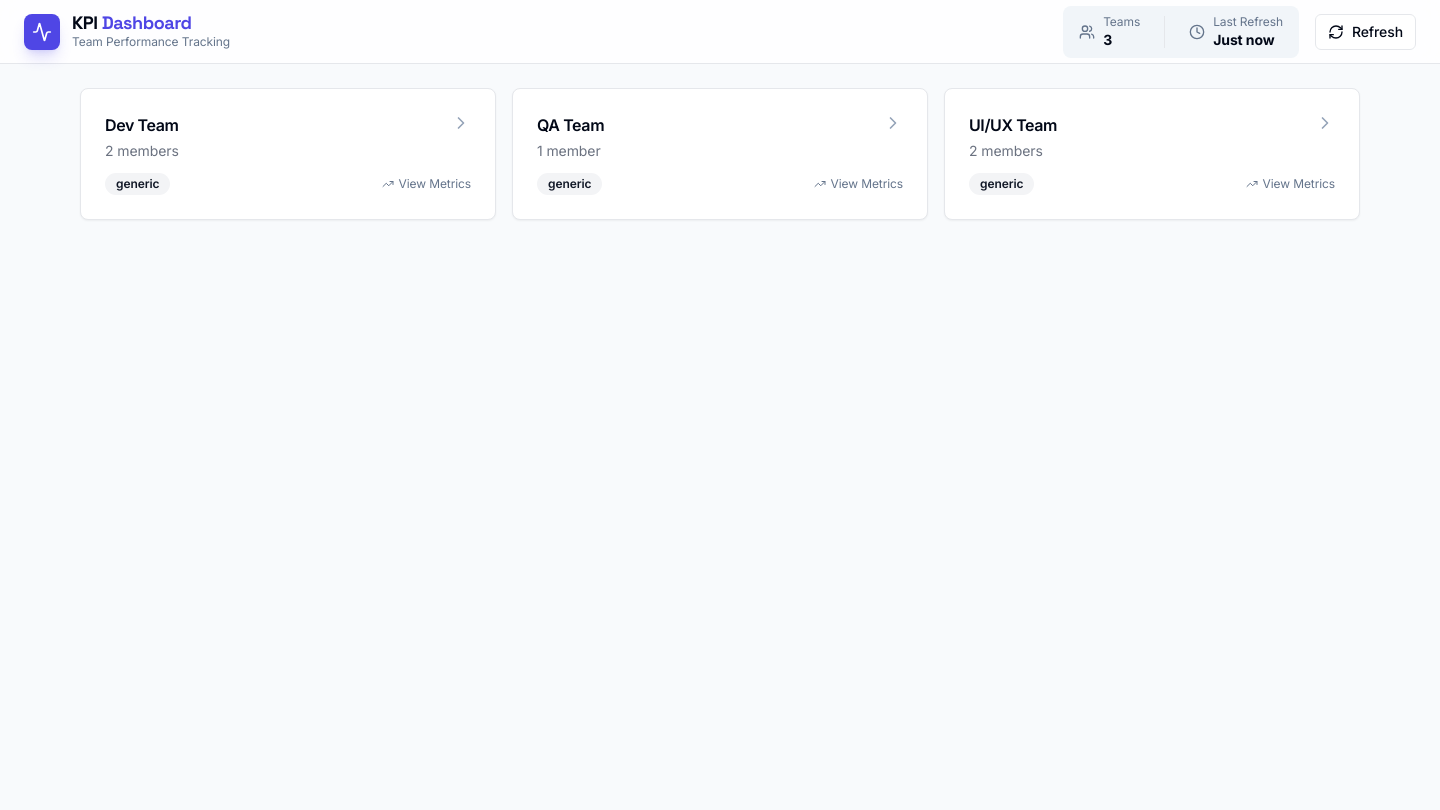
Test: KPIDashboardPage › Team Selection › closes modal when close button is clicked
Expected: the text "Dev Team" is shown, [105,115,178,135]
Click the text "Dev Team" at (288, 154), box [80,88,496,220]
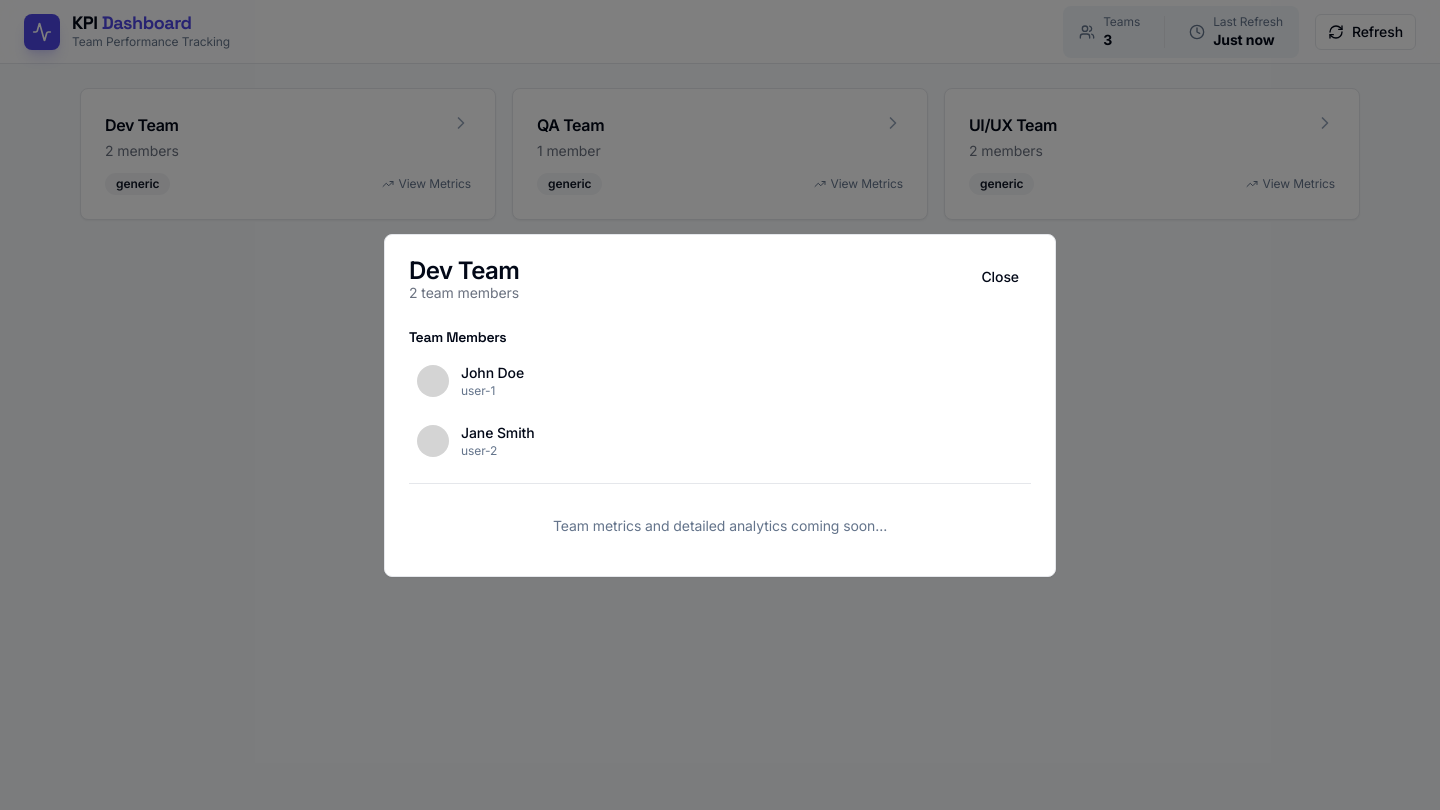
Result: the text "John Doe" is shown at [461,362,524,382]
Click the button "Close" at (1000, 276), box [970,258,1031,294]
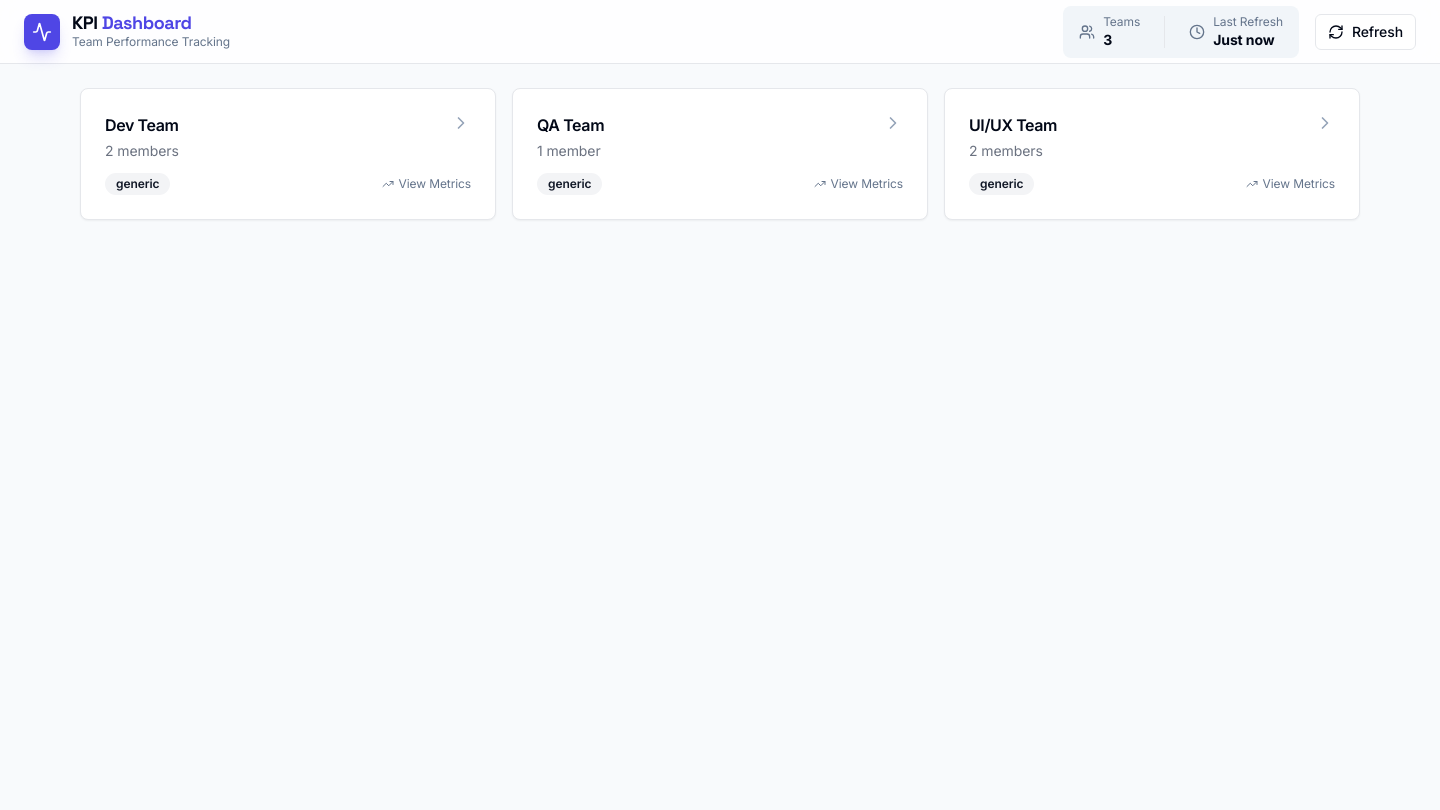
Result: the text "2 team members" is gone
